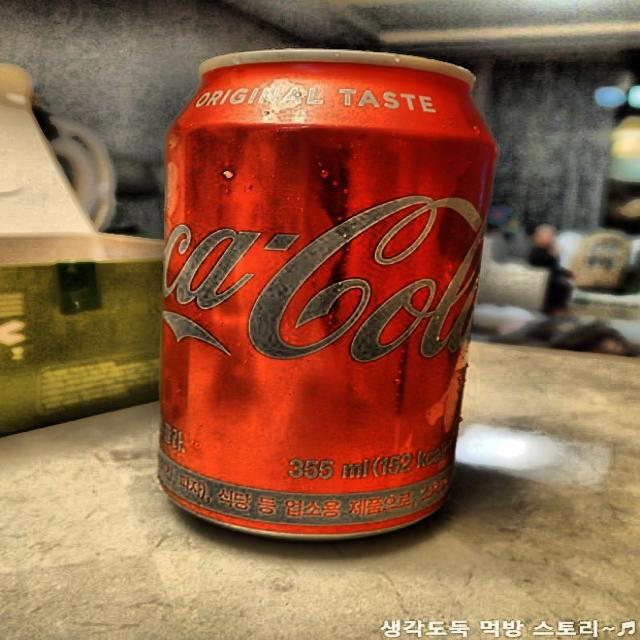cocacola: (152, 31, 501, 567)
